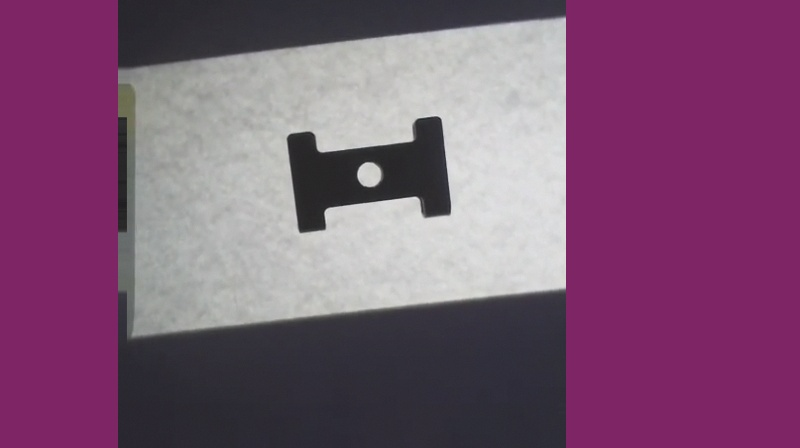O002: (284, 112, 452, 241)
